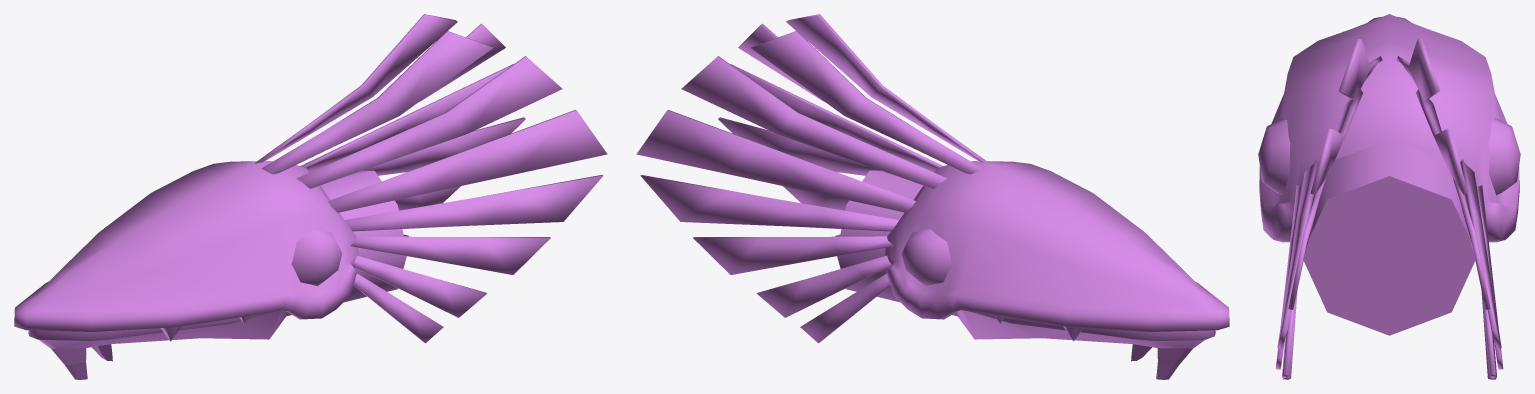
File: BossHead_Model 1.FBX
3 renders of one model, left to right at view 1: azimuth 30°, elevation 25°; view 2: azimuth 150°, elevation 25°; view 3: azimuth 270°, elevation 25°, orthographic. The views are drawn at different scales.
Visible parts, largest first — view 1: tete; view 2: tete; view 3: tete.
Boxes of the visible parts, bbox=[...] form: tete: bbox=[14, 14, 607, 379]; tete: bbox=[636, 14, 1229, 379]; tete: bbox=[1258, 14, 1520, 379].
Bounding box in the file's own units: 286 × 137 × 87.25.
